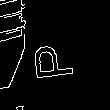P_W: (25, 47, 77, 90)
